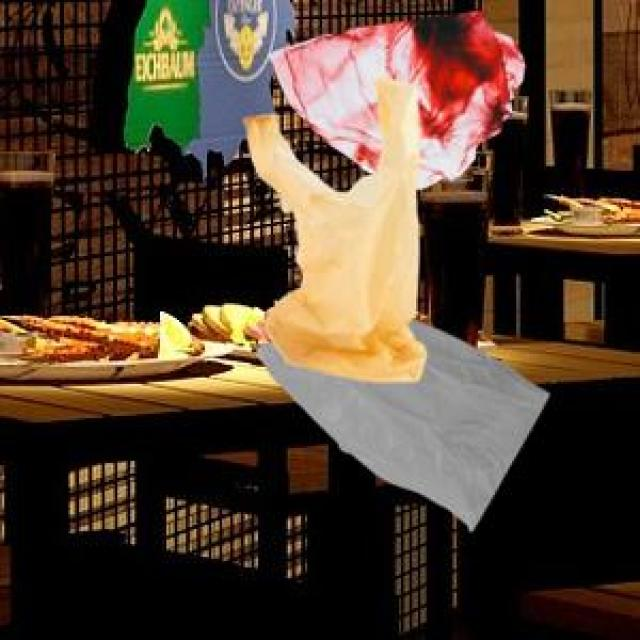plastic: (190, 47, 574, 522)
